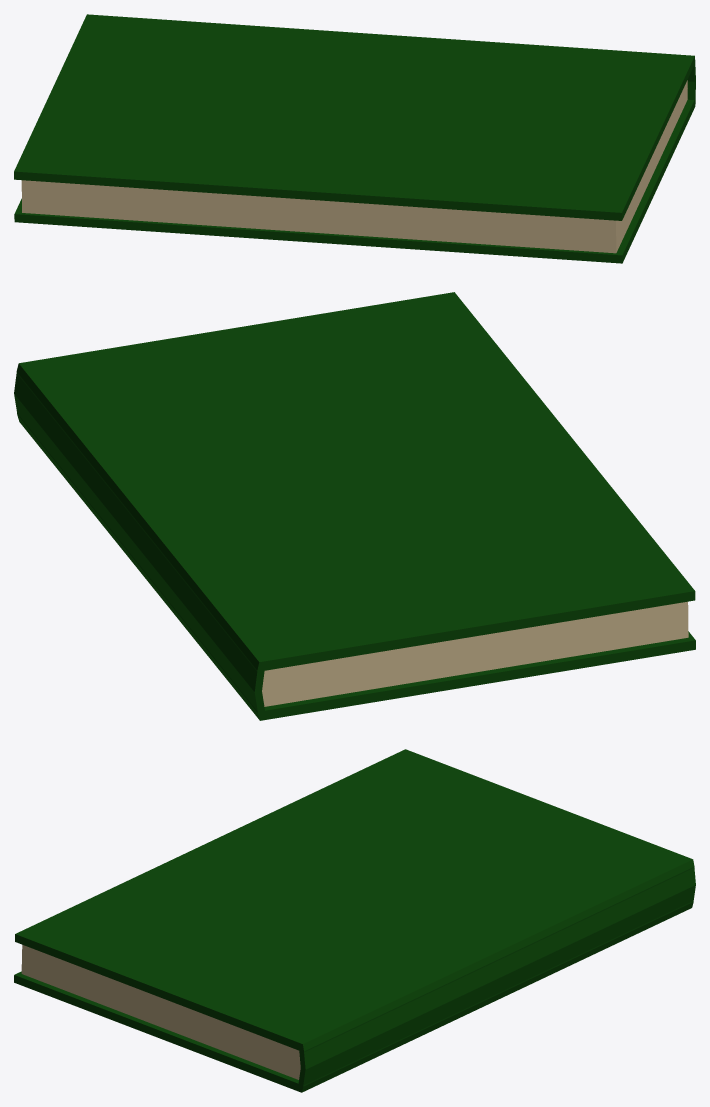
3 renders of one model, top to bottom at view 1: azimuth 30°, elevation 25°; view 2: azimuth 150°, elevation 25°; view 3: azimuth 270°, elevation 25°, orthographic. The views are drawn at different scales.
Visible parts, largest first — view 1: book1.003; view 2: book1.003; view 3: book1.003.
Part boxes in pixels (x1,y1,x2,y2): book1.003: (14, 14, 695, 263); book1.003: (14, 292, 695, 720); book1.003: (14, 749, 695, 1092).
Bounding box in the file's own units: 4051 × 388 × 3922.
